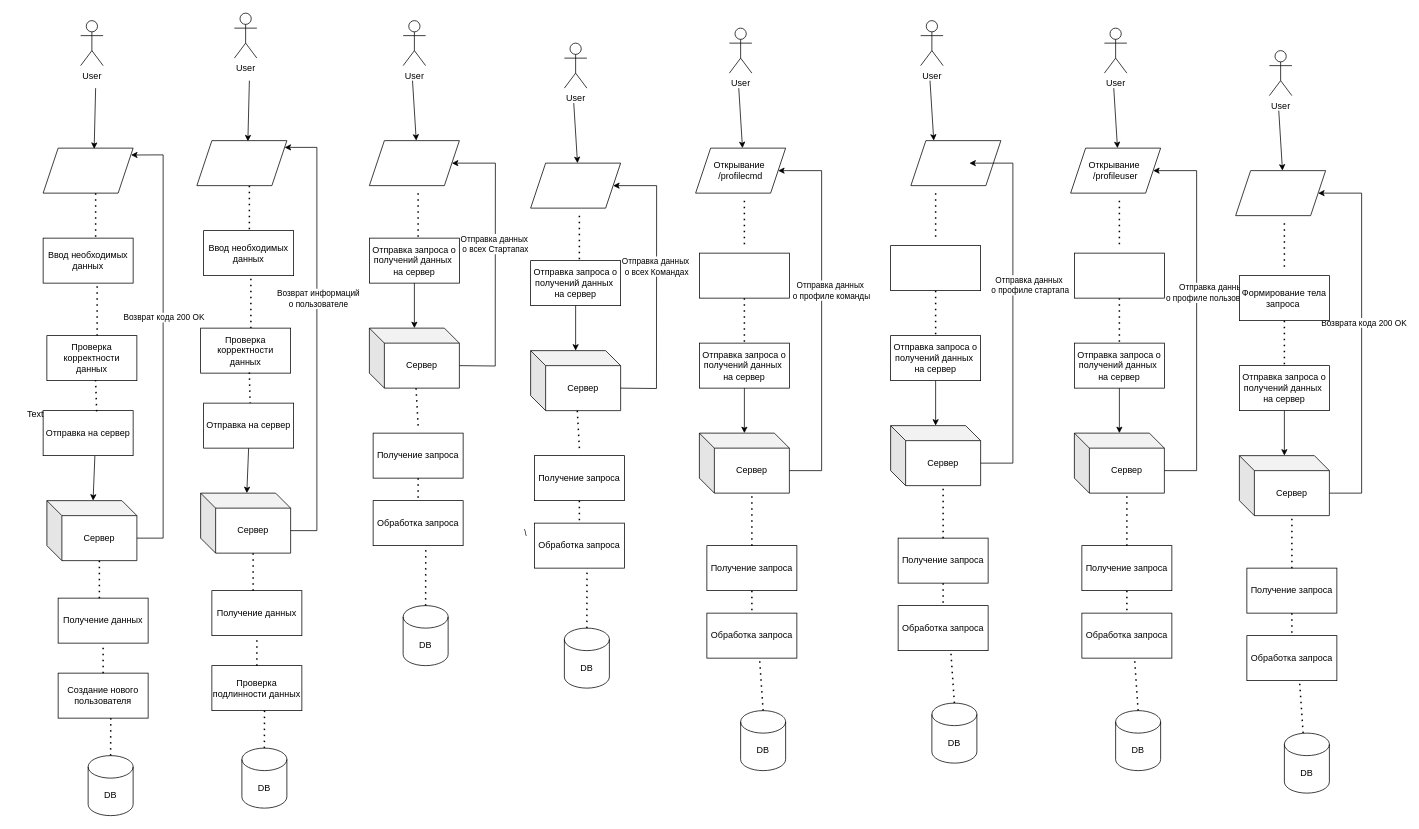
This 1419x829 diagram has some shape labels left out. The box of each missing label's shape, as (x1, y1, x2, y2) in pixels:
Откликается на Стартап: (1235, 170, 1326, 216)
Открывание /allcmd: (530, 162, 621, 208)
Открывание /allstart: (369, 140, 459, 186)
Открывание /auth: (196, 140, 287, 186)
Открывание /profilestart: (910, 140, 1001, 186)
Открывание /reg: (42, 147, 133, 193)
Формаирование id команды: (699, 252, 789, 298)
Формаирование id пользователя: (1074, 252, 1164, 298)
Формаирование id стартапа: (890, 245, 981, 291)
